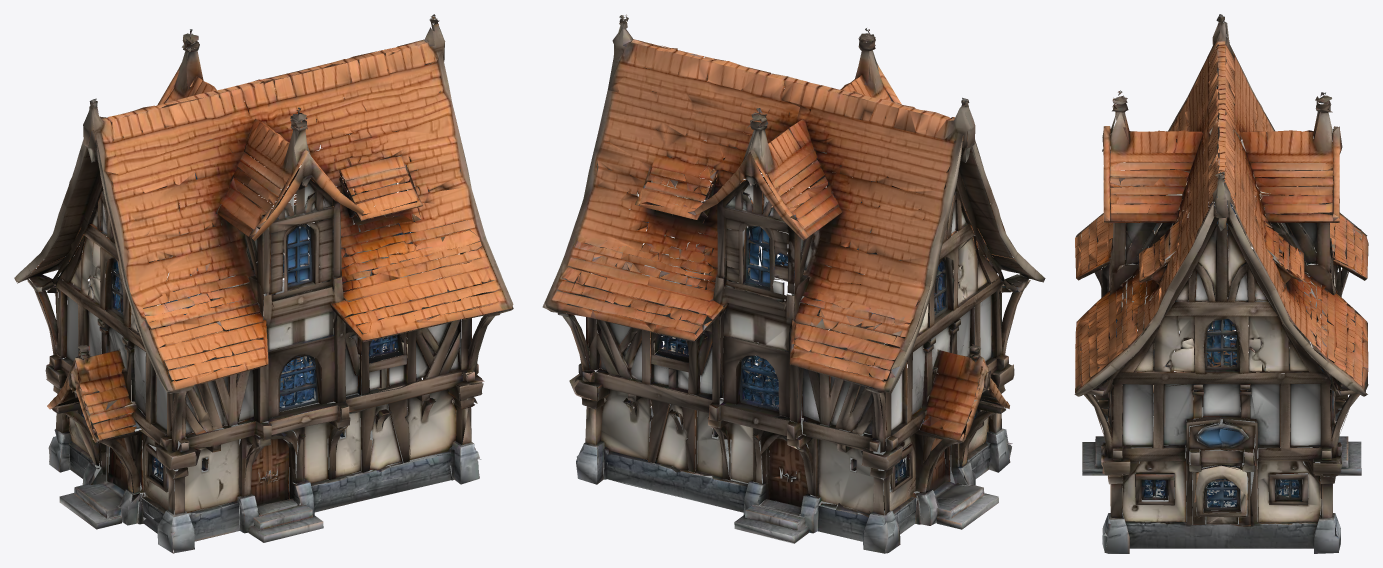
The model's file is Medieval_Cottage_town.glb.
The picture shows the model from 3 angles, left to right: view 1: azimuth 30°, elevation 25°; view 2: azimuth 150°, elevation 25°; view 3: azimuth 270°, elevation 25°; orthographic projection. The views are drawn at different scales.
Visible parts, largest first — view 1: Medieval_Cottage; view 2: Medieval_Cottage; view 3: Medieval_Cottage.
Part boxes in pixels (box(x1,y1,x2,y2)): Medieval_Cottage: box(14, 14, 513, 553); Medieval_Cottage: box(542, 14, 1045, 553); Medieval_Cottage: box(1074, 14, 1368, 553).
Bounding box in the file's own units: 1.89 × 2 × 1.37.
Materials: 1 (1 with a texture image).
